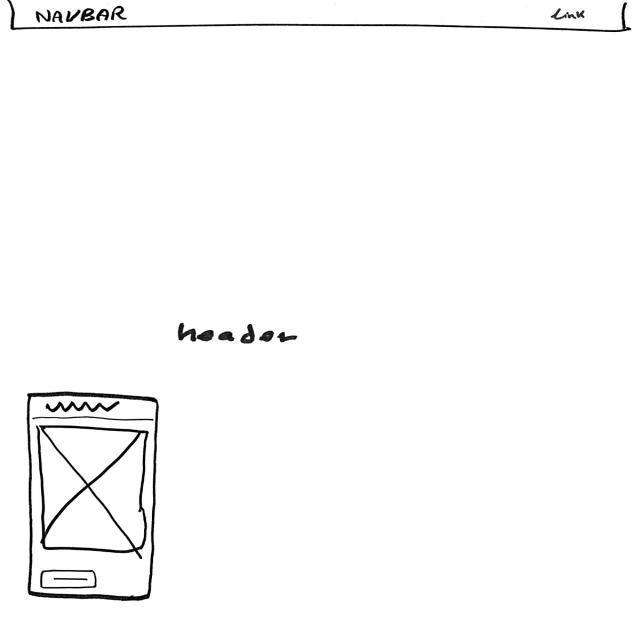container: (26, 391, 163, 604), (8, 1, 630, 35)
icon-button: (39, 569, 102, 590)
image: (38, 424, 150, 554)
label: (176, 325, 299, 348), (36, 6, 130, 25), (551, 8, 590, 24)
text: (44, 402, 123, 415)
